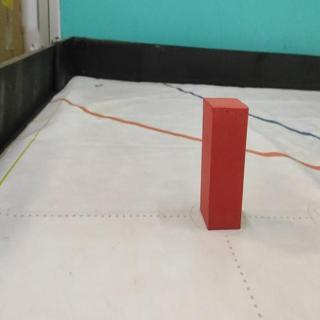redbox: (200, 97, 249, 229)
